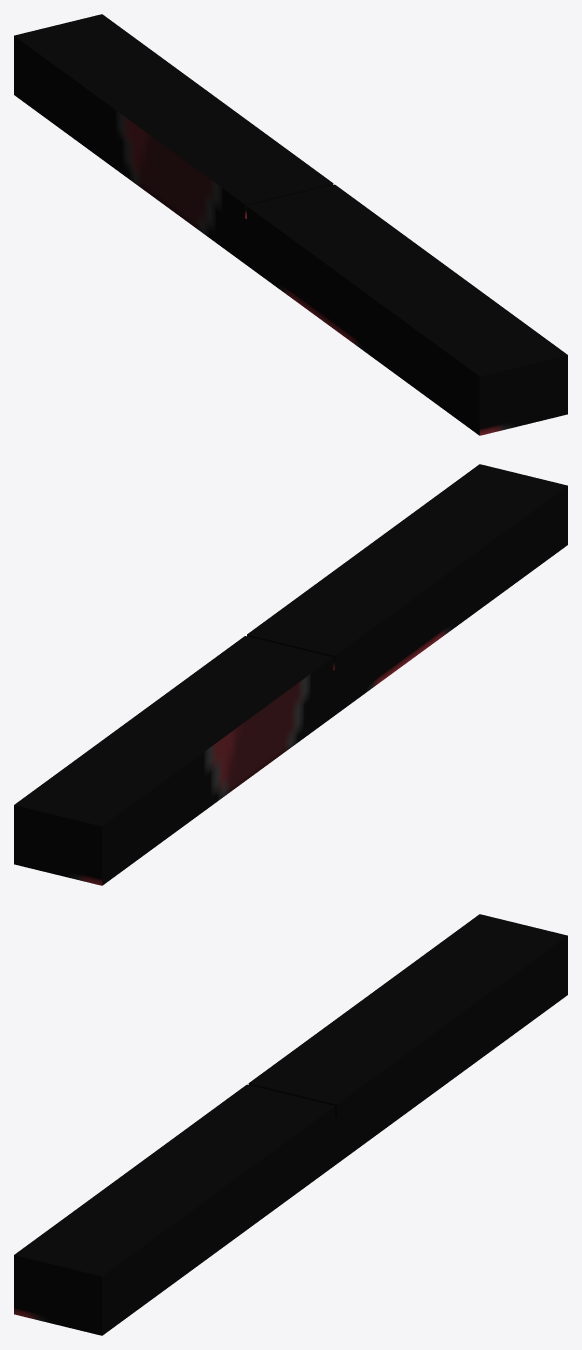
Rendered from RedCurb.obj.
3 renders of one model, top to bottom at view 1: azimuth 30°, elevation 25°; view 2: azimuth 150°, elevation 25°; view 3: azimuth 330°, elevation 25°, orthographic.
Visible parts, largest first — view 1: Model; view 2: Model; view 3: Model.
Boxes of the visible parts, left/top/right/bottom form: Model: left=14, top=14, right=567, bottom=435; Model: left=14, top=464, right=567, bottom=885; Model: left=14, top=914, right=567, bottom=1335.
Bounding box in the file's own units: 3.5 × 2.25 × 32.
Materials: 1 (1 with a texture image).
